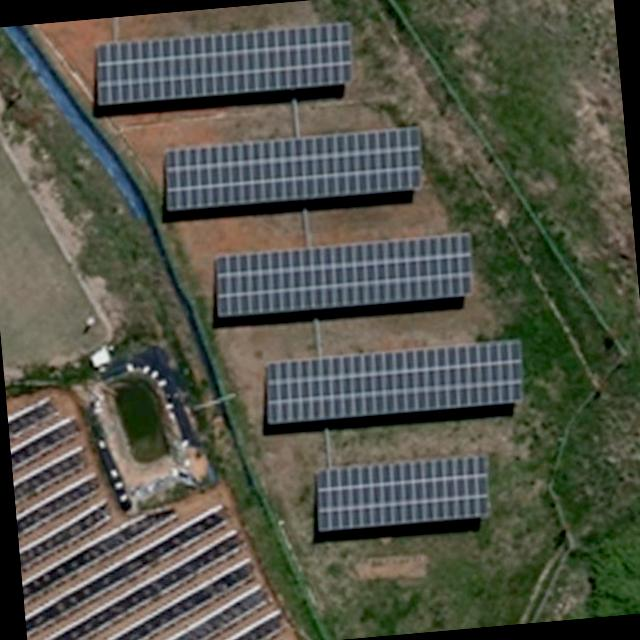solar: (254, 335, 532, 431), (207, 228, 476, 324), (88, 16, 359, 111), (156, 123, 427, 215), (308, 452, 494, 538)
